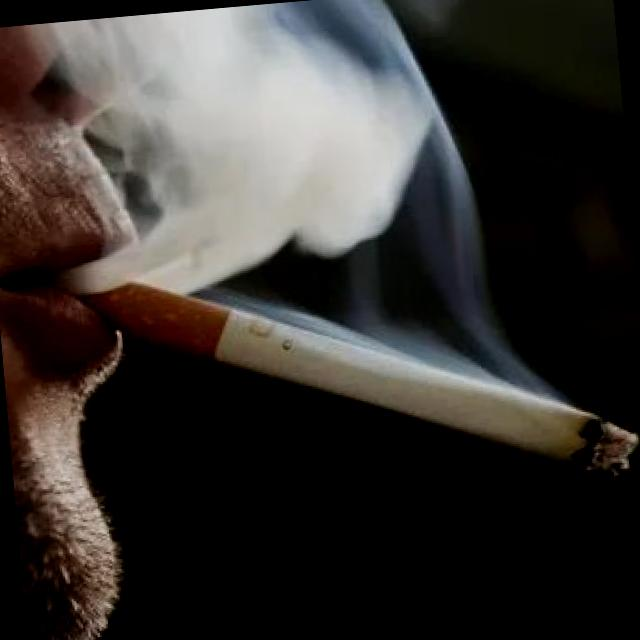smoke: (61, 226, 640, 537)
